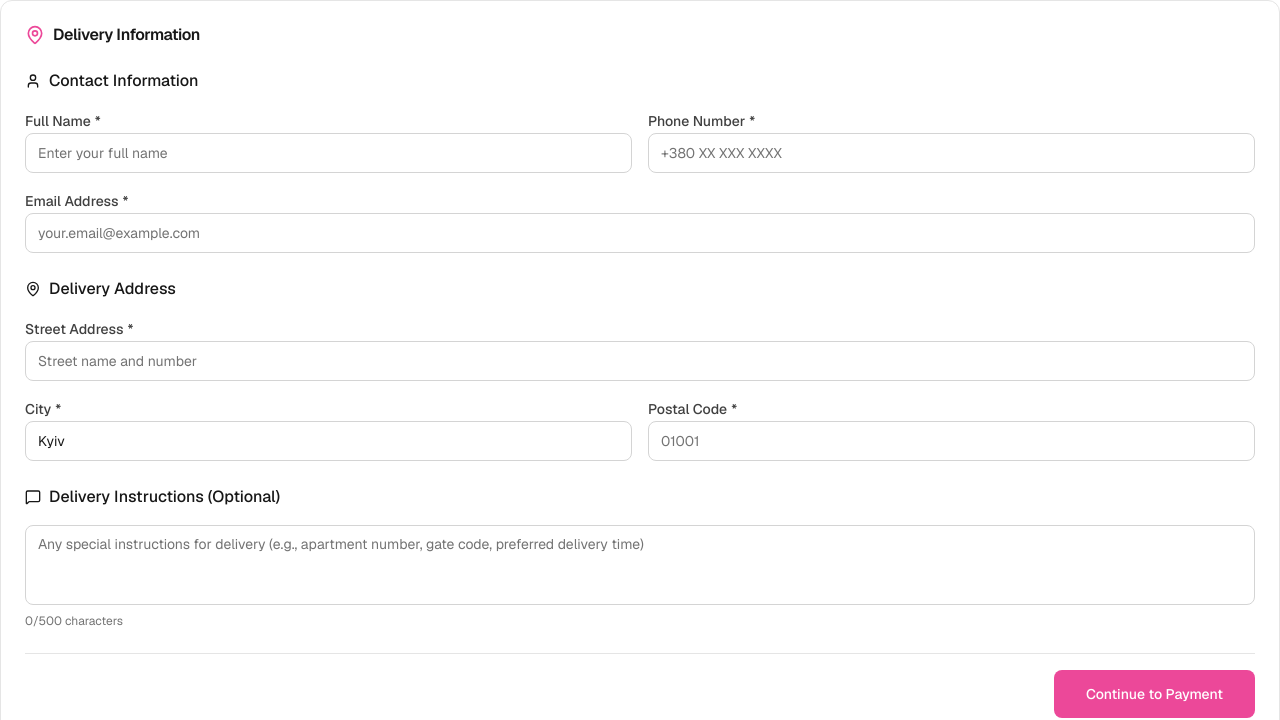
Test: AddressForm › Form input handling › should limit postal code input to 5 characters
Type "123456789" into the field labelled "Postal Code*" at (952, 441), box [648, 421, 1255, 461]
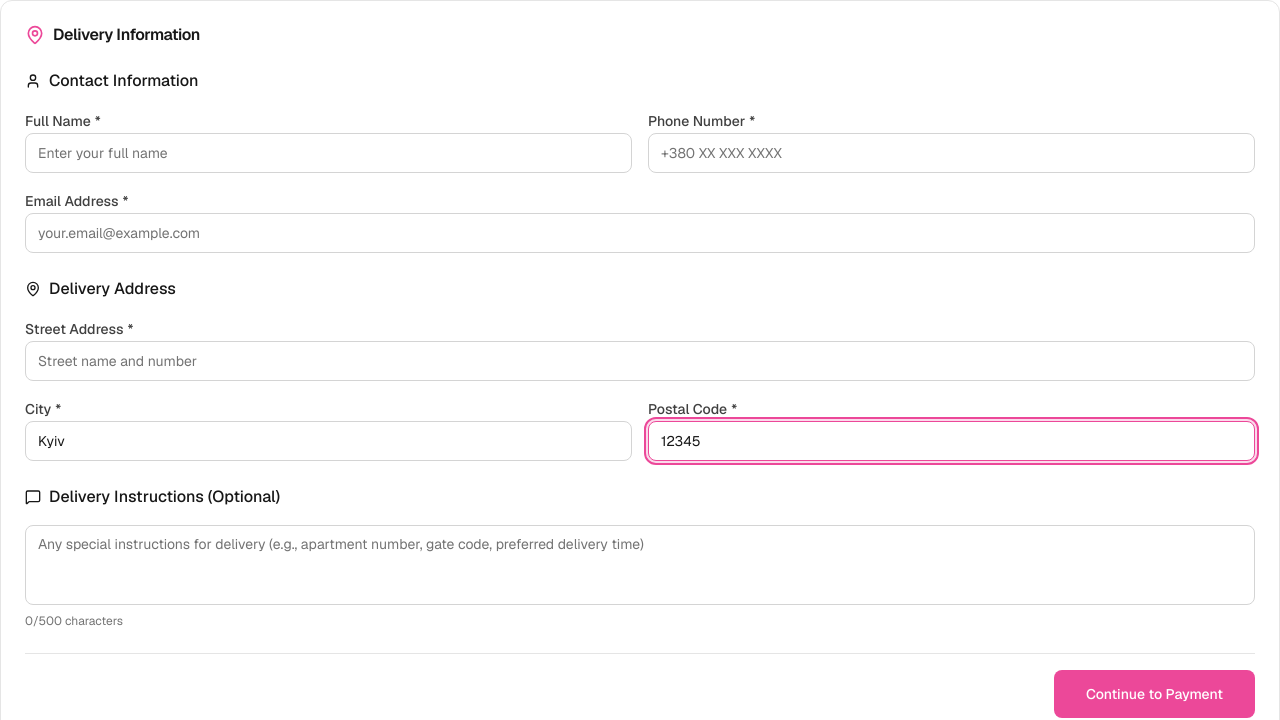
Check: the field labelled "Postal Code*" holds "12345", box [648, 421, 1255, 461]
